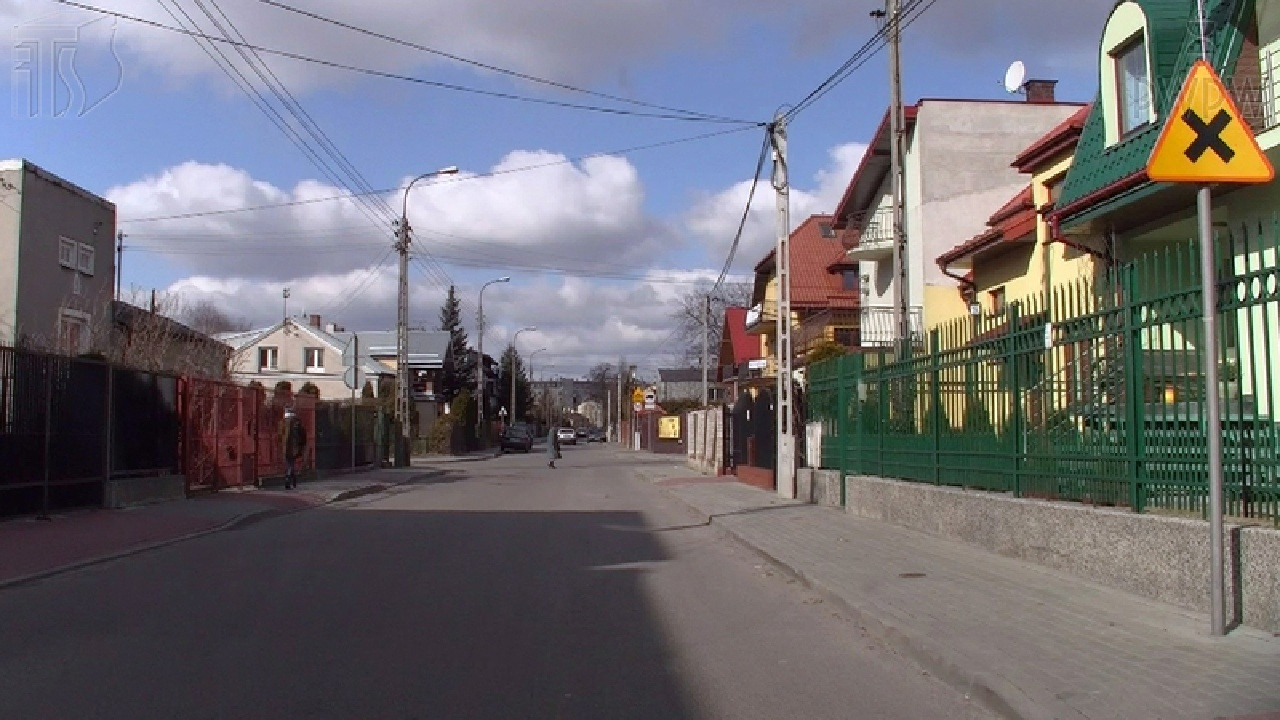A5: (1146, 61, 1276, 184)
